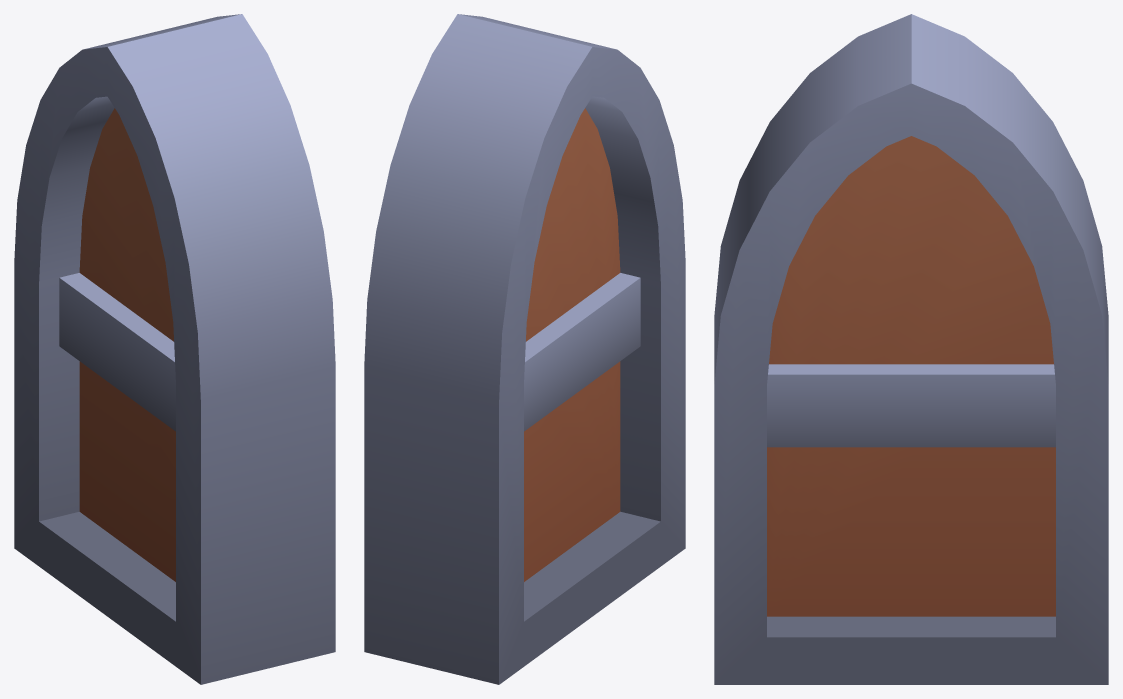
The model's file is door.glb.
3 renders of one model, left to right at view 1: azimuth 30°, elevation 25°; view 2: azimuth 150°, elevation 25°; view 3: azimuth 270°, elevation 25°, orthographic. The views are drawn at different scales.
Parts seen in each view (by area): view 1: door; view 2: door; view 3: door.
Part boxes in pixels (x1,y1,x2,y2): door: [14, 14, 335, 684]; door: [364, 14, 685, 684]; door: [714, 14, 1108, 684].
Size of the model in its own units: 0.15 by 0.6053 by 0.3594.
